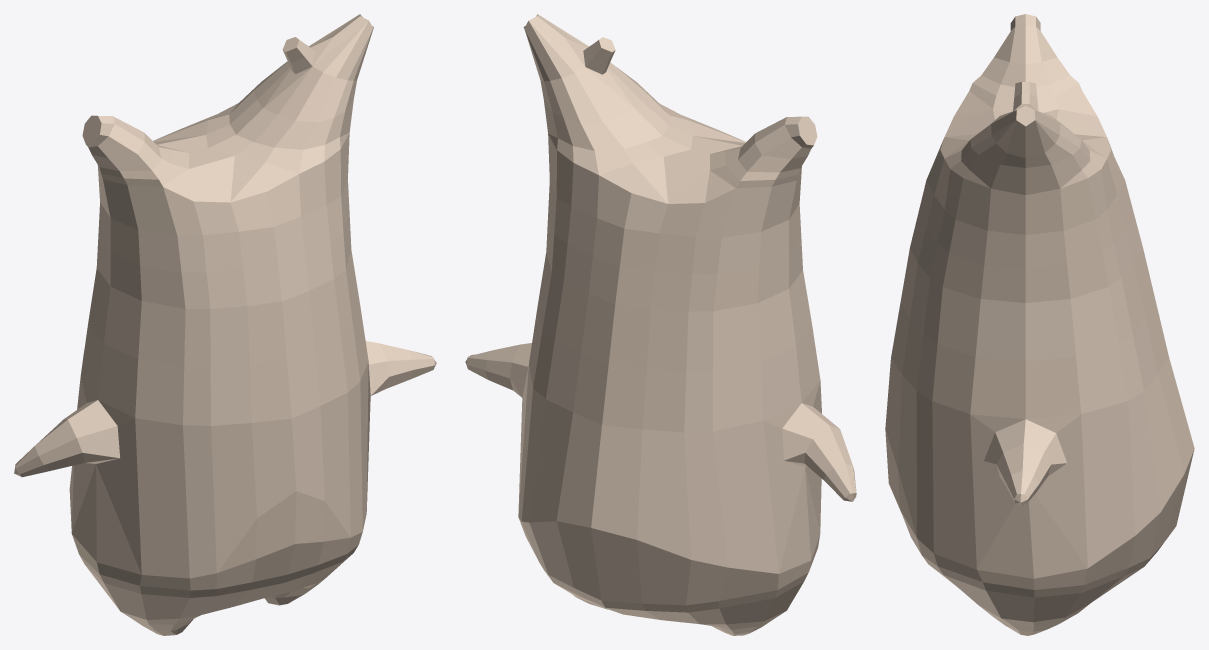
Rendered from frame_0008.obj.
The picture shows the model from 3 angles, left to right: view 1: azimuth 30°, elevation 25°; view 2: azimuth 150°, elevation 25°; view 3: azimuth 270°, elevation 25°; orthographic projection.
Visible parts, largest first — view 1: korok; view 2: korok; view 3: korok.
Boxes of the visible parts, x1,y1,x2,y2 form: korok: (14, 14, 436, 635); korok: (465, 14, 856, 635); korok: (885, 14, 1194, 635).
Size of the model in its own units: 1.6 by 2.16 by 1.07.
